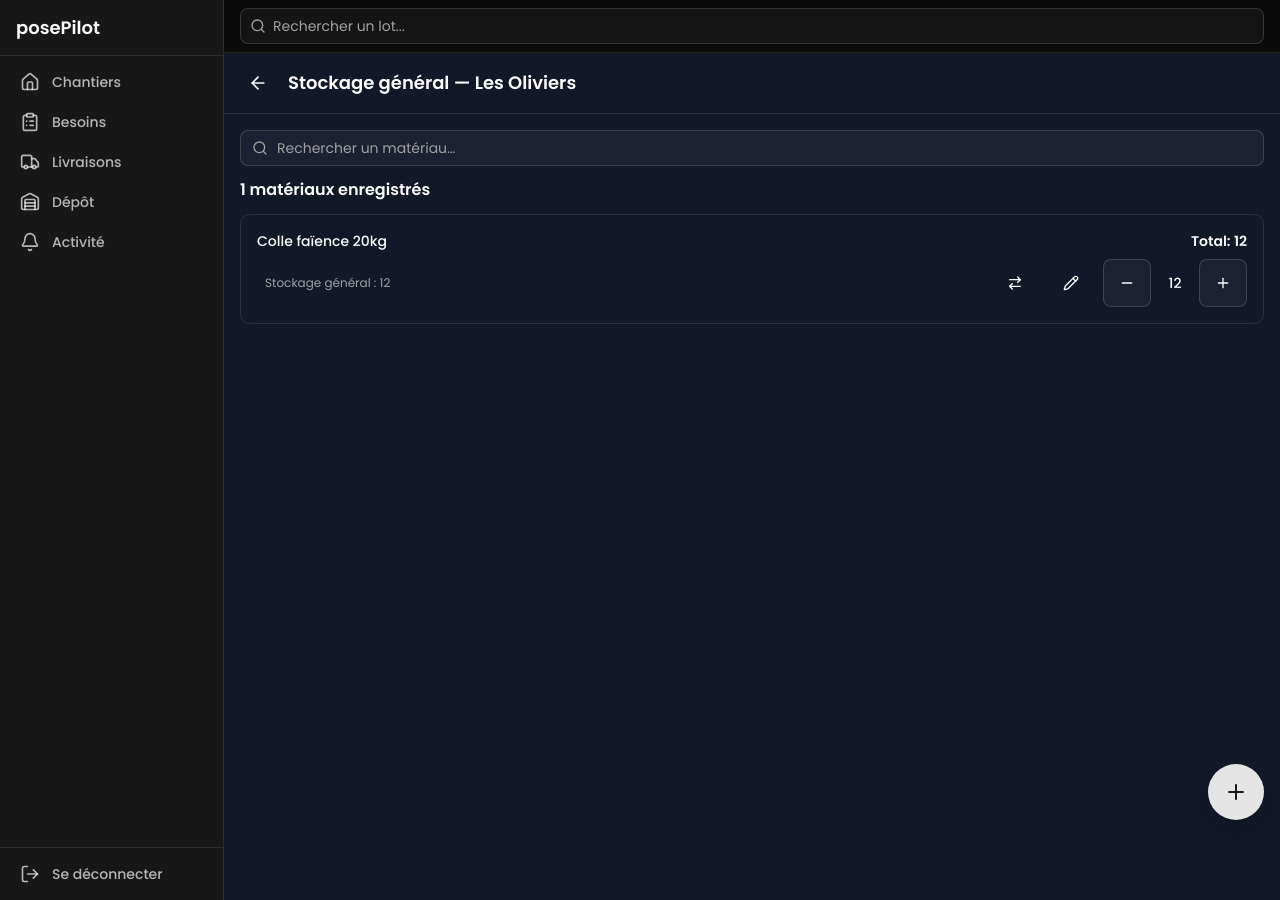
Test: InventairePage — Edit mode › opens edit sheet with pre-filled data when edit button is clicked
Expected: the text "Colle faïence 20kg" is shown, [257,231,387,251]
Click the button named "Modifier Colle faïence": (1071, 283) [1047,259,1095,307]
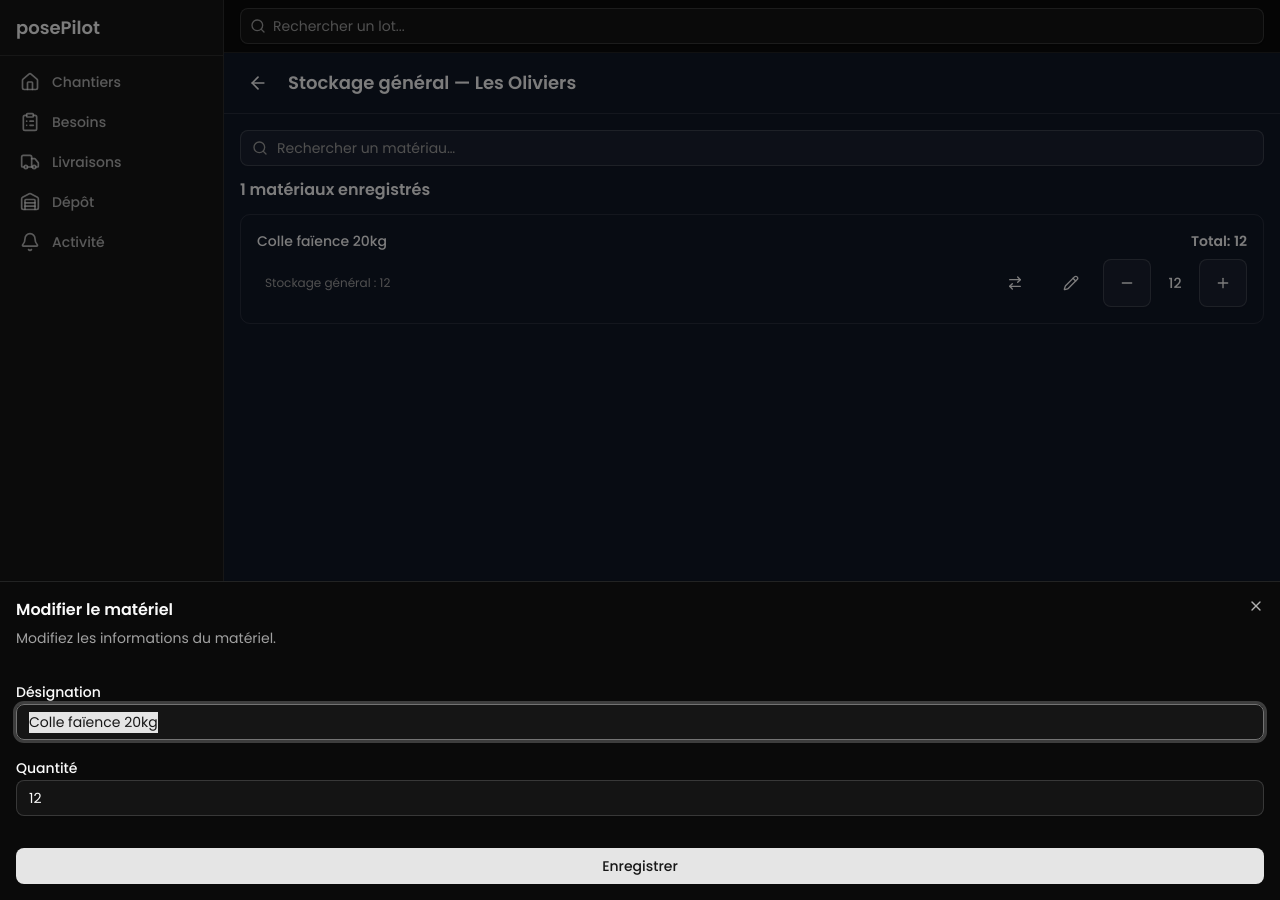
Expected: the heading "Modifier le matériel" is shown, [16,598,173,621]
Expected: the field labelled "Désignation" holds "Colle faïence 20kg", [16,704,1264,740]
Expected: the field labelled "Quantité" holds "12", [16,780,1264,816]
